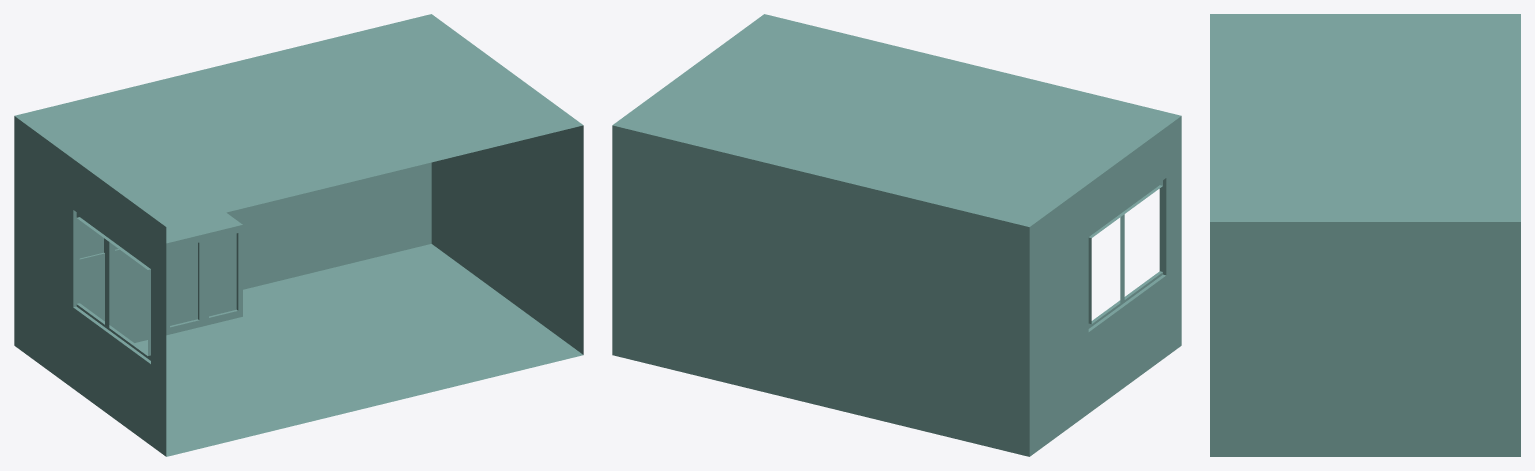
The model's file is office.fbx.
3 renders of one model, left to right at view 1: azimuth 30°, elevation 25°; view 2: azimuth 150°, elevation 25°; view 3: azimuth 270°, elevation 25°, orthographic. The views are drawn at different scales.
Parts seen in each view (by area): view 1: pCube4, pCube6, pCube5; view 2: pCube4; view 3: pCube4.
Part boxes in pixels (<box>): pCube4: <box>14,14,583,456</box>; pCube6: <box>166,212,242,335</box>; pCube5: <box>79,220,147,342</box>; pCube4: <box>612,14,1181,456</box>; pCube4: <box>1210,14,1520,456</box>.
Bounding box in the file's own units: 475 × 250 × 300.
